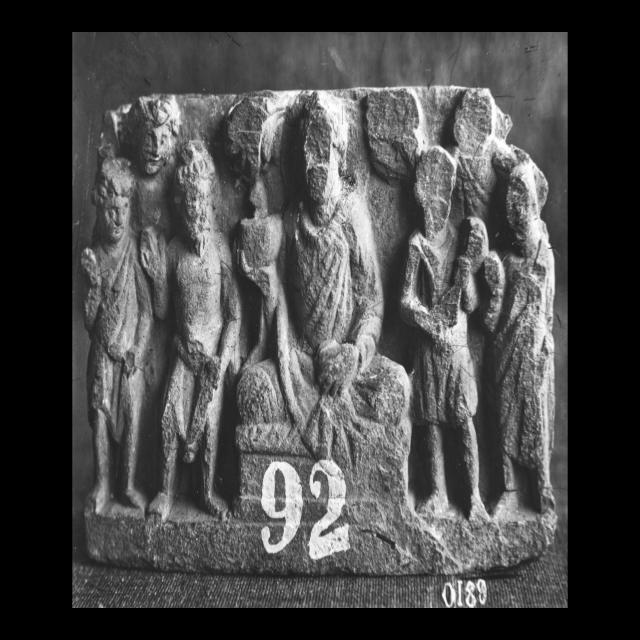buddha-sitting: (231, 91, 413, 469)
